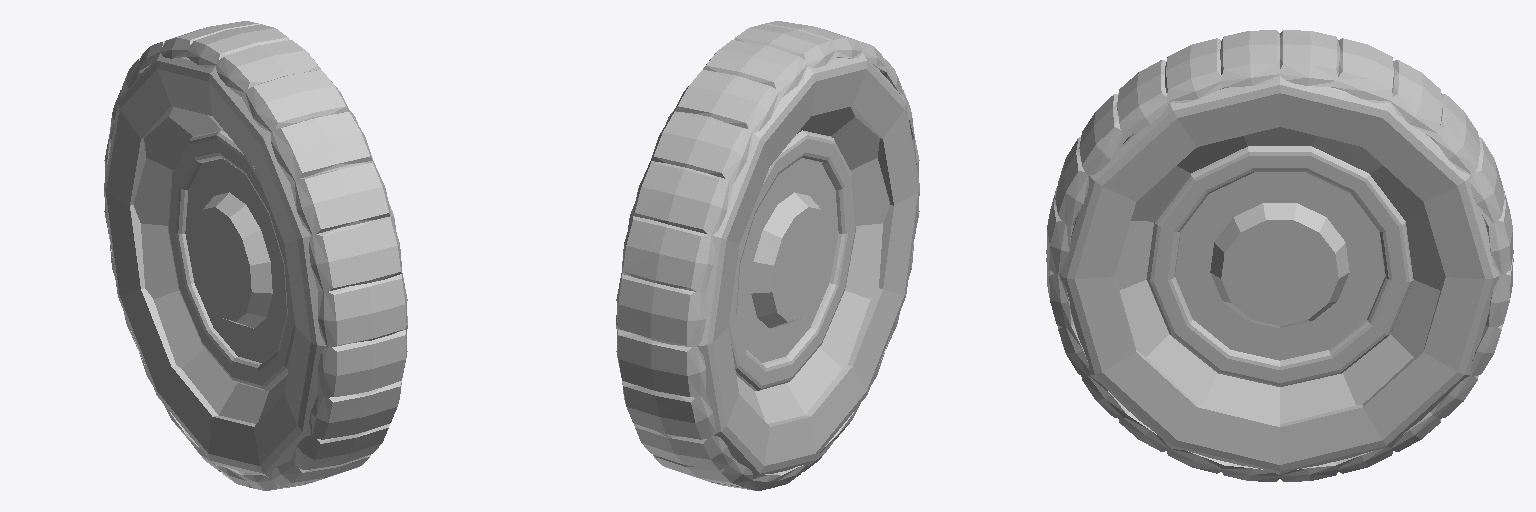
Rendered from llanta1.obj.
3 renders of one model, left to right at view 1: azimuth 30°, elevation 25°; view 2: azimuth 150°, elevation 25°; view 3: azimuth 270°, elevation 25°, orthographic.
Visible parts, largest first — view 1: CartoonTrack_TireFrontLeft; view 2: CartoonTrack_TireFrontLeft; view 3: CartoonTrack_TireFrontLeft.
Part boxes in pixels (left/top/right/bottom): CartoonTrack_TireFrontLeft: left=104, top=21, right=407, bottom=490; CartoonTrack_TireFrontLeft: left=616, top=21, right=919, bottom=490; CartoonTrack_TireFrontLeft: left=1046, top=30, right=1513, bottom=481.
Bounding box in the file's own units: 0.2486 × 1.06 × 1.06.